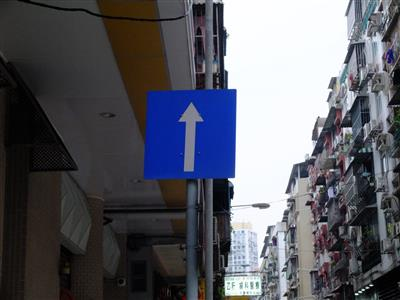oneway: (138, 82, 242, 187)
